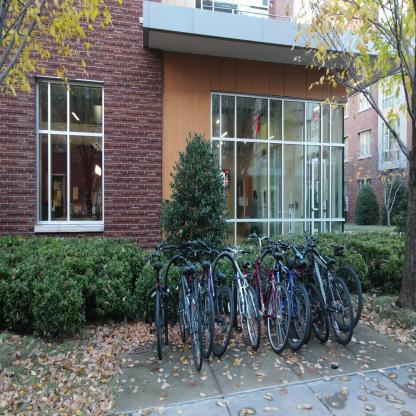Wolf Ridge: (0, 10, 406, 298)
